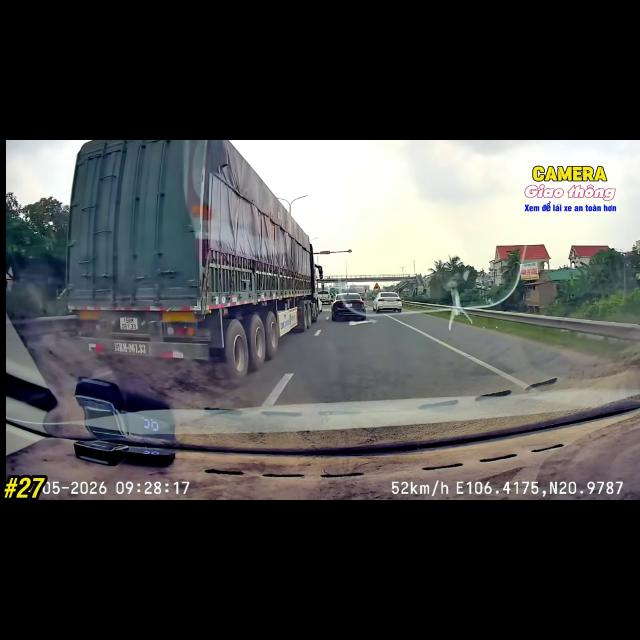car: (331, 293, 366, 320), (373, 292, 402, 312), (317, 290, 331, 304)
truck: (66, 140, 322, 377)
